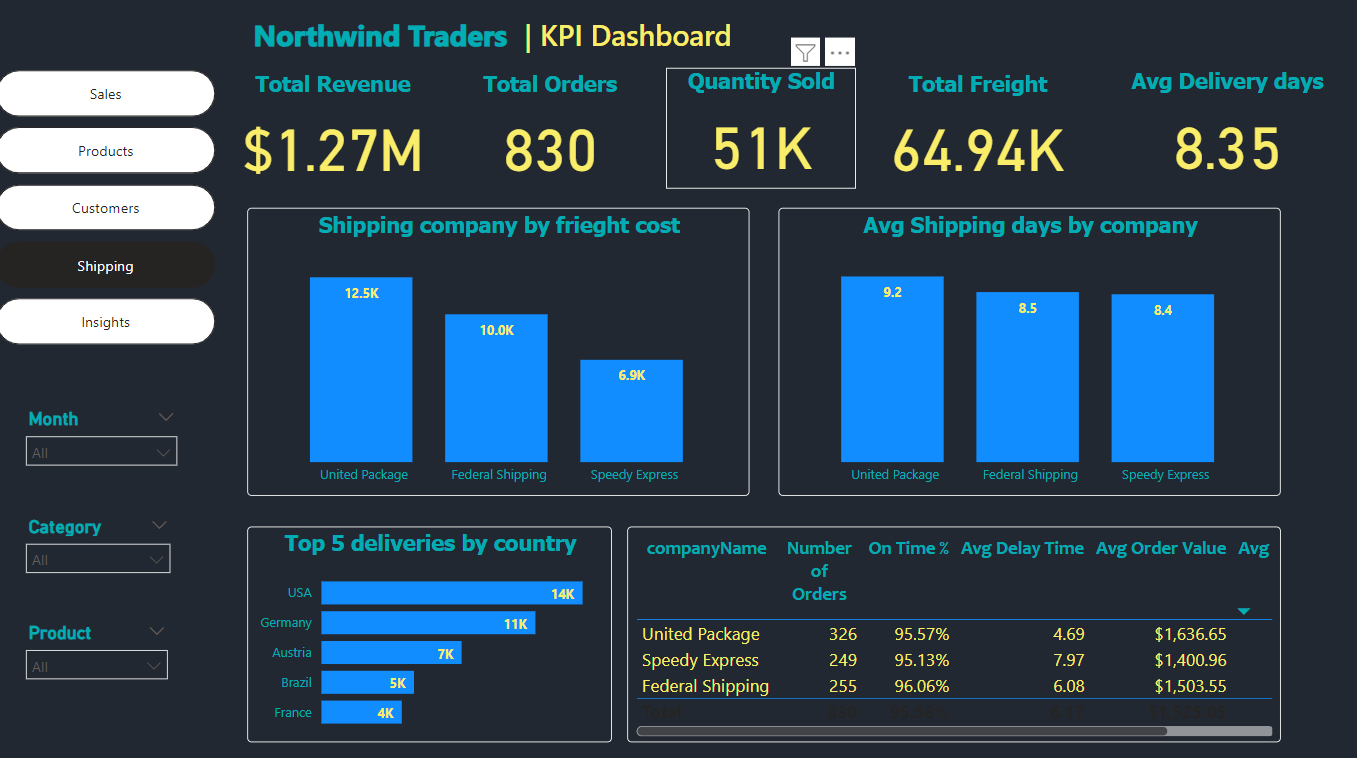

The dashboard page shown, as its layout file describes it:
{"tool":"powerbi","page":{"name":"Shipping","canvas":[1280,720],"ordinal":3},"visuals":[{"type":"slicer","fields":{"Values":["date.Month"]},"box":[17.6,380.7,160.8,71.6],"z":0},{"type":"card","title":"Total Revenue","fields":{"Values":["Key Measures.Revenue"]},"box":[218.6,70.4,189.7,110.6],"z":1000},{"type":"card","title":"Total Orders","fields":{"Values":["Key Measures.Number of Orders"]},"box":[415,70.4,201,110.6],"z":2000},{"type":"card","title":"Quantity Sold","fields":{"Values":["Key Measures.Total Quantity"]},"box":[623.2,69.1,177.2,111.8],"z":3000},{"type":"card","title":"Total Freight","fields":{"Values":["Key Measures.Freight Cost"]},"box":[787.8,70.4,252.5,110.6],"z":4000},{"type":"textbox","title":"Northwind Traders","box":[154.5,20.1,405.8,42.7],"z":5000},{"type":"textbox","title":"| KPI Dashboard","box":[447.3,20.1,280.2,36.4],"z":6000},{"type":"slicer","fields":{"Values":["categories.categoryName"]},"box":[17.6,479.9,154.5,76.6],"z":7000},{"type":"slicer","fields":{"Values":["products.productName"]},"box":[17.6,579.2,152,67.8],"z":8000},{"type":"card","title":"Avg Delivery days","fields":{"Values":["Key Measures.Avg Time to Deliver"]},"box":[1031.5,69.1,228.7,111.8],"z":9000},{"type":"pageNavigator","box":[0,70.4,204.8,255],"z":10000},{"type":"clusteredColumnChart","title":"Shipping company by frieght cost","fields":{"Category":["shippers.companyName"],"Y":["Key Measures.Freight Cost"]},"box":[233.7,198.5,467.4,267.6],"z":11000},{"type":"clusteredColumnChart","title":"Avg Shipping days by company","fields":{"Category":["shippers.companyName"],"Y":["Key Measures.Avg Time to Deliver"]},"box":[727.4,198.5,467.4,267.6],"z":12000},{"type":"barChart","title":"Top 5 deliveries by country","fields":{"Category":["Iso Countries.name"],"Y":["Key Measures.Freight Cost"]},"box":[233.7,495.4,339.5,201.2],"z":13000},{"type":"tableEx","fields":{"Values":["shippers.companyName","Key Measures.Number of Orders","Key Measures.On Time %","Key Measures.Avg Delay Time","Key Measures.Avg Order Value","Key Measures.Avg Time to Deliver"]},"box":[587.2,495.4,608.1,201.2],"z":14000}]}

Visuals, with their boxes in screenshot pixels (x1, y1, x2, y2), scaled from the page's 1280x720 canvas onto the 1357x758 screenshot:
slicer - date.Month: bbox=(19, 401, 189, 476)
"Total Revenue" card: bbox=(232, 74, 433, 191)
"Total Orders" card: bbox=(440, 74, 653, 191)
"Quantity Sold" card: bbox=(661, 73, 849, 190)
"Total Freight" card: bbox=(835, 74, 1103, 191)
"Northwind Traders" textbox: bbox=(164, 21, 594, 66)
"| KPI Dashboard" textbox: bbox=(474, 21, 771, 59)
slicer - categories.categoryName: bbox=(19, 505, 182, 586)
slicer - products.productName: bbox=(19, 610, 180, 681)
"Avg Delivery days" card: bbox=(1094, 73, 1336, 190)
pageNavigator: bbox=(0, 74, 217, 343)
"Shipping company by frieght cost" clusteredColumnChart: bbox=(248, 209, 743, 491)
"Avg Shipping days by company" clusteredColumnChart: bbox=(771, 209, 1267, 491)
"Top 5 deliveries by country" barChart: bbox=(248, 522, 608, 733)
tableEx - shippers.companyName x Key Measures.Number of Orders: bbox=(623, 522, 1267, 733)
